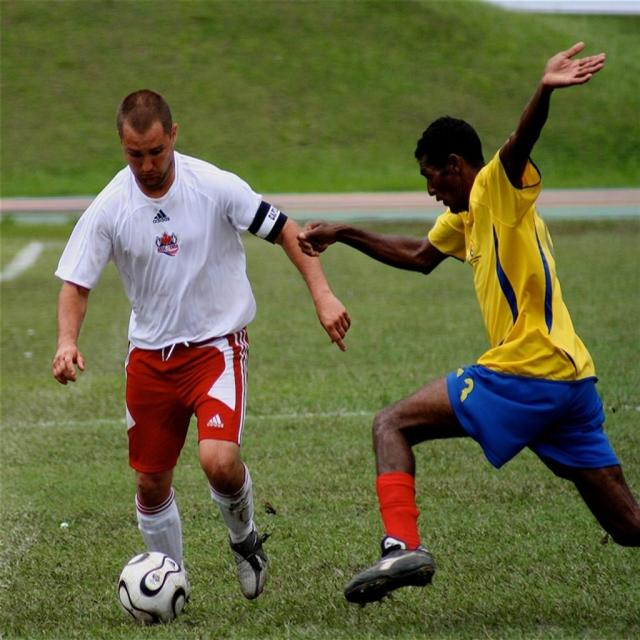Face: (124, 93, 178, 196), (420, 149, 461, 221)
